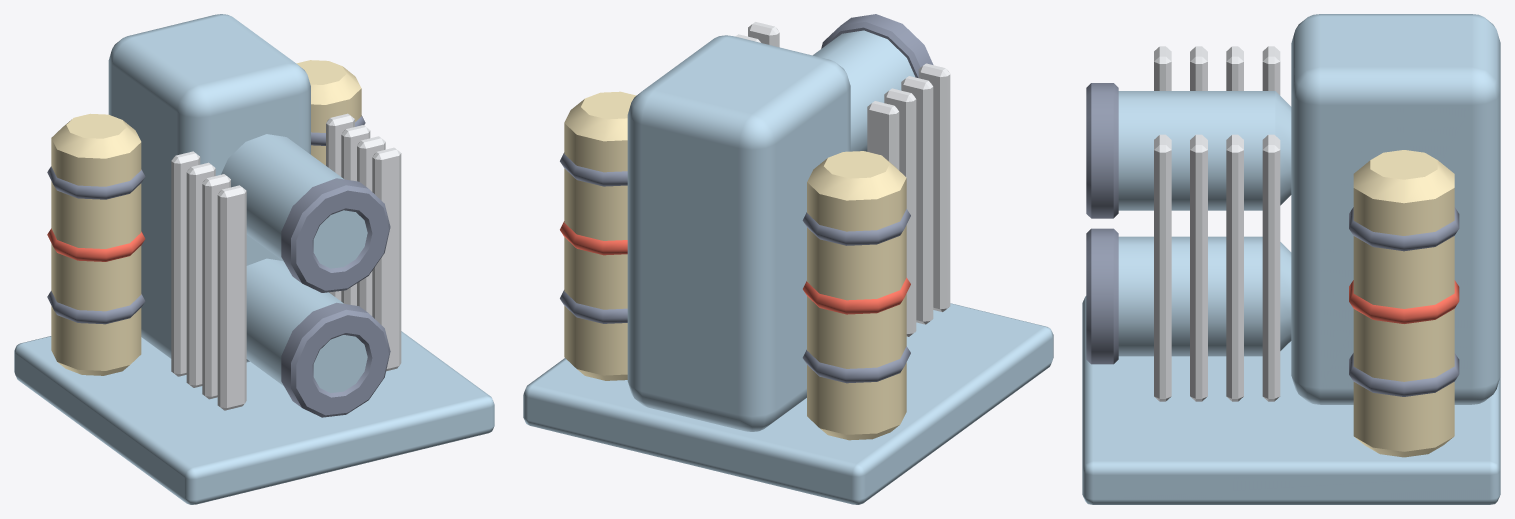
Rendered from R4X_DoubleShotOverdrive.glb.
3 views of the same model, side by side, from view 1: azimuth 30°, elevation 25°; view 2: azimuth 150°, elevation 25°; view 3: azimuth 270°, elevation 25° (orthographic). The views are drawn at different scales.
Parts seen in each view (by area): view 1: R4X_DoubleShotOverdrive_Body; view 2: R4X_DoubleShotOverdrive_Body; view 3: R4X_DoubleShotOverdrive_Body.
Boxes of the visible parts, bbox=[...] form: R4X_DoubleShotOverdrive_Body: bbox=[14, 14, 494, 504]; R4X_DoubleShotOverdrive_Body: bbox=[523, 14, 1053, 504]; R4X_DoubleShotOverdrive_Body: bbox=[1082, 14, 1500, 504].
Size of the model in its own units: 0.52 by 0.52 by 0.52.
